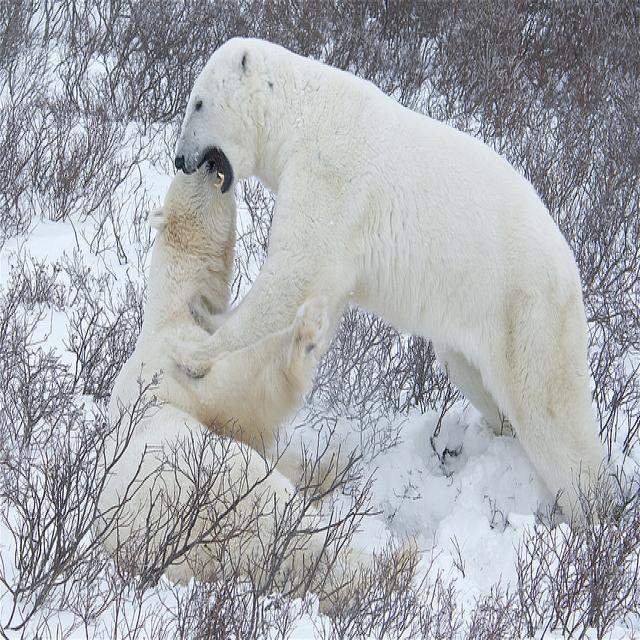Bear: (166, 41, 627, 541), (96, 152, 405, 618)
